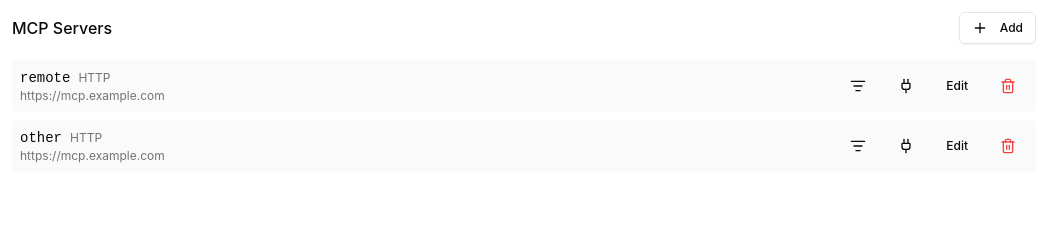
Scenario: McpServerSection › tests each server independently
This screenshot has width=1048, height=245.
Step 1. Click the button titled "Test connection" in the row of "remote" → (906, 86), box [886,70,926,102]
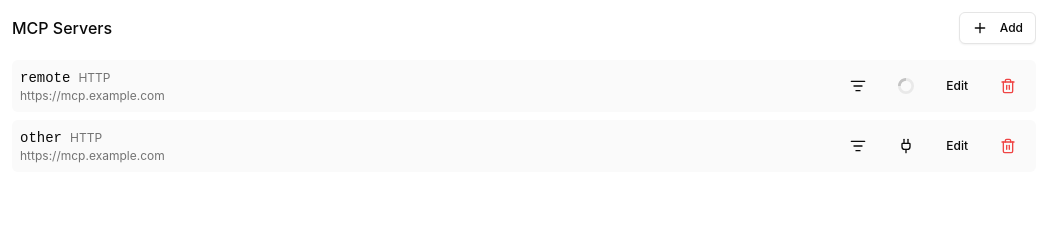
Now the button titled "Test connection" in the row of "remote" is disabled, box [886,70,926,102]
Step 2. Click the button titled "Test connection" in the row of "other" → (906, 146), box [886,130,926,162]
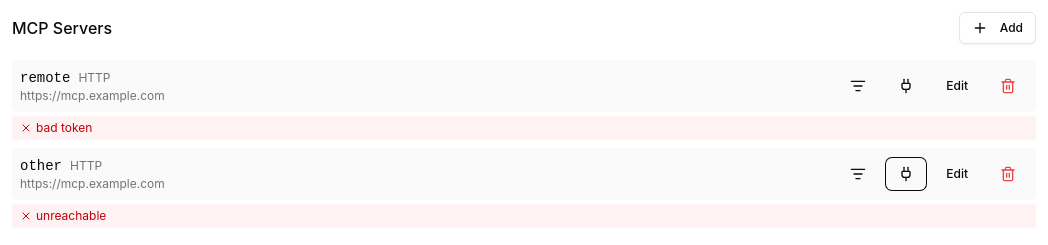
Now the text "unreachable" is shown, box [12,204,1036,228]
Now the text "bad token" is shown, box [12,116,1036,140]
